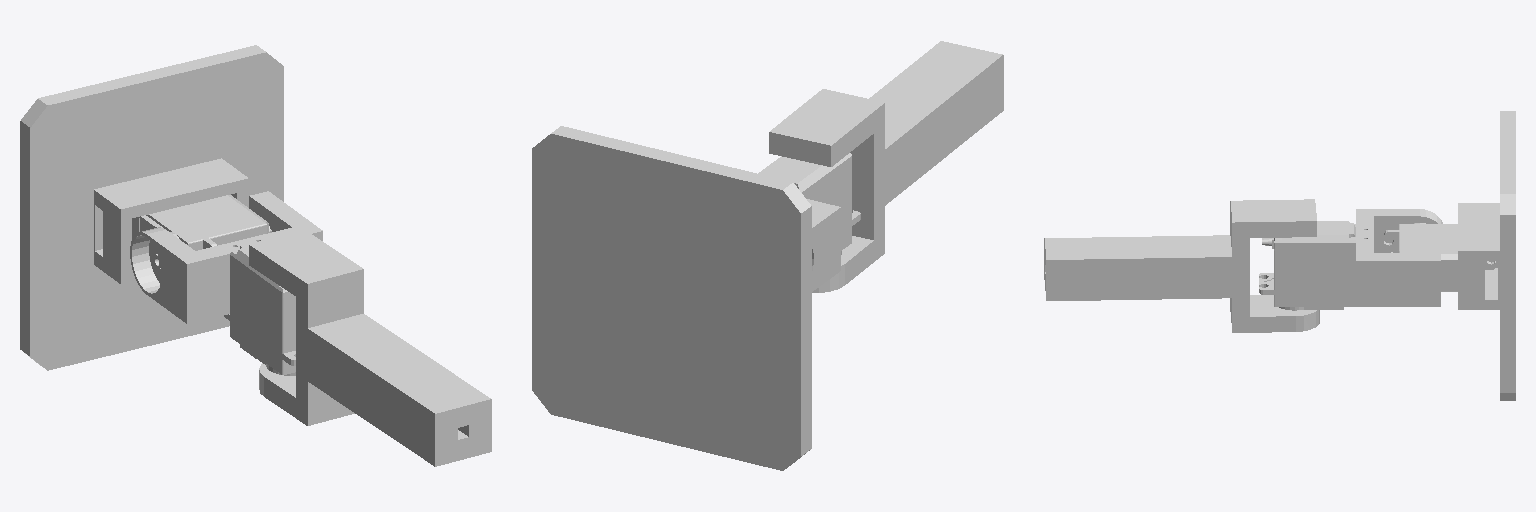
URDF robot description (assembly):
<?xml version="1.0" encoding="utf-8"?>
<!-- This URDF was automatically created by SolidWorks to URDF Exporter! Originally created by Stephen Brawner (brawner@gmail.com) 
     Commit Version: 1.6.0-4-g7f85cfe  Build Version: 1.6.7995.38578
     For more information, please see http://wiki.ros.org/sw_urdf_exporter -->
<robot
  name="assembly">
  <link
    name="base_link">
    <inertial>
      <origin
        xyz="1.32123743769437 -0.900404530174205 0.681863566681437"
        rpy="0 0 0" />
      <mass
        value="0.136562621257405" />
      <inertia
        ixx="0.000100163559308627"
        ixy="-9.33579893764603E-08"
        ixz="8.36299379232976E-10"
        iyy="0.0001885318533397"
        iyz="-1.38145480653438E-08"
        izz="0.000104093174499662" />
    </inertial>
    <visual>
      <origin
        xyz="0 0 0"
        rpy="0 0 0" />
      <geometry>
        <mesh
          filename="package://assembly/meshes/base_link.STL" />
      </geometry>
      <material
        name="">
        <color
          rgba="0.894117647058823 0.894117647058823 0.894117647058823 1" />
      </material>
    </visual>
    <collision>
      <origin
        xyz="0 0 0"
        rpy="0 0 0" />
      <geometry>
        <mesh
          filename="package://assembly/meshes/base_link.STL" />
      </geometry>
    </collision>
  </link>
  <link
    name="lower_arm">
    <inertial>
      <origin
        xyz="0.0303299206109355 -0.00260215013459442 0.0367362208851532"
        rpy="0 0 0" />
      <mass
        value="0.0546051991114324" />
      <inertia
        ixx="1.06861466850166E-05"
        ixy="2.72835385679488E-11"
        ixz="1.43942147727215E-06"
        iyy="1.85359351043574E-05"
        iyz="6.68762642347971E-08"
        izz="1.44788495229488E-05" />
    </inertial>
    <visual>
      <origin
        xyz="0 0 0"
        rpy="0 0 0" />
      <geometry>
        <mesh
          filename="package://assembly/meshes/lower_arm.STL" />
      </geometry>
      <material
        name="">
        <color
          rgba="0.894117647058823 0.894117647058823 0.894117647058823 1" />
      </material>
    </visual>
    <collision>
      <origin
        xyz="0 0 0"
        rpy="0 0 0" />
      <geometry>
        <mesh
          filename="package://assembly/meshes/lower_arm.STL" />
      </geometry>
    </collision>
  </link>
  <joint
    name="lower_link"
    type="revolute">
    <origin
      xyz="1.2937 -0.93385 0.68188"
      rpy="1.5708 0 0" />
    <parent
      link="base_link" />
    <child
      link="lower_arm" />
    <axis
      xyz="1 0 0" />
    <limit
      lower="-1.5708"
      upper="1.5708"
      effort="1"
      velocity="1" />
  </joint>
  <link
    name="upper_arm">
    <inertial>
      <origin
        xyz="0.0022051717223639 0.0227016795062744 0.0564719988742379"
        rpy="0 0 0" />
      <mass
        value="0.0704330196764084" />
      <inertia
        ixx="9.9218187729957E-05"
        ixy="1.76209486571653E-07"
        ixz="-3.24384353707808E-06"
        iyy="9.0835643781078E-05"
        iyz="4.51252926308889E-06"
        izz="1.62736258225927E-05" />
    </inertial>
    <visual>
      <origin
        xyz="0 0 0"
        rpy="0 0 0" />
      <geometry>
        <mesh
          filename="package://assembly/meshes/upper_arm.STL" />
      </geometry>
      <material
        name="">
        <color
          rgba="0.894117647058823 0.894117647058823 0.894117647058823 1" />
      </material>
    </visual>
    <collision>
      <origin
        xyz="0 0 0"
        rpy="0 0 0" />
      <geometry>
        <mesh
          filename="package://assembly/meshes/upper_arm.STL" />
      </geometry>
    </collision>
  </link>
  <joint
    name="upper_link"
    type="revolute">
    <origin
      xyz="0.028367 -0.026145 0.060445"
      rpy="0 0 0" />
    <parent
      link="lower_arm" />
    <child
      link="upper_arm" />
    <axis
      xyz="0 1 0" />
    <limit
      lower="-1.5708"
      upper="1.5708"
      effort="1"
      velocity="1" />
  </joint>
</robot>

--- Render facts (derived) ---
3 views of the same robot in one strip: view 1: azimuth 30°, elevation 25°; view 2: azimuth 150°, elevation 25°; view 3: azimuth 270°, elevation 25° (orthographic).
Model assembly with 3 links and 2 joints (2 revolute), rooted at base_link, posed every joint at zero.
Visible links, largest first — view 1: base_link, upper_arm, lower_arm; view 2: base_link, upper_arm, lower_arm; view 3: upper_arm, lower_arm, base_link.
Link boxes in pixels (x1=…): base_link: x1=20, y1=45, x2=283, y2=370; upper_arm: x1=249, y1=230, x2=491, y2=466; lower_arm: x1=130, y1=191, x2=322, y2=375; base_link: x1=532, y1=126, x2=811, y2=470; upper_arm: x1=769, y1=41, x2=1003, y2=292; lower_arm: x1=758, y1=153, x2=860, y2=291; upper_arm: x1=1044, y1=199, x2=1319, y2=332; lower_arm: x1=1259, y1=209, x2=1442, y2=310; base_link: x1=1384, y1=111, x2=1515, y2=400.
Size in the robot's own frame: 0.11 by 0.2277 by 0.11 metres.
Meshes: 3 distinct files referenced, 3 mesh visuals loaded (3 binary STL).
